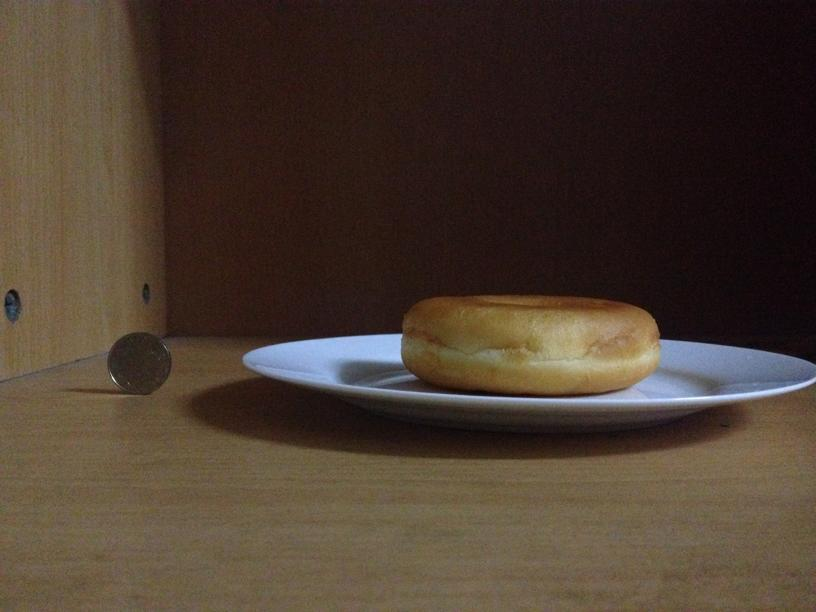coin: (107, 331, 171, 395)
doughnut: (396, 297, 659, 394)
